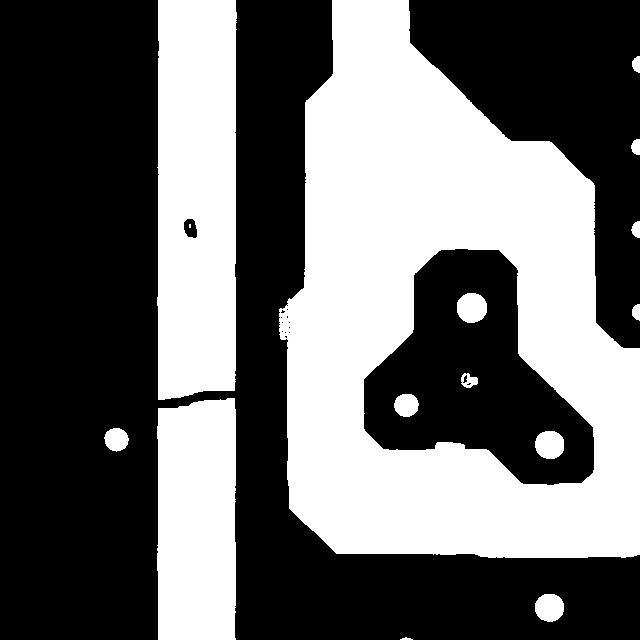copper: (174, 209, 206, 247)
mousebite: (269, 288, 305, 349), (425, 432, 474, 460)
pin-hole: (451, 363, 487, 397)
short: (143, 381, 247, 417)
